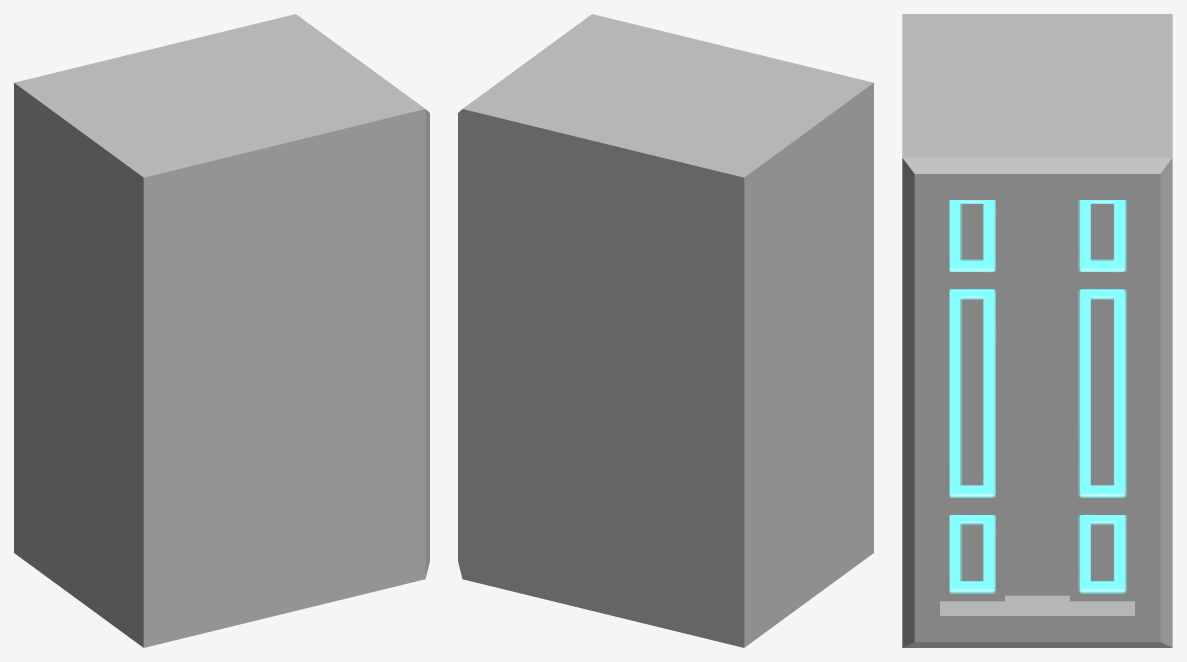
The model's file is switchBase - Textures.gltf.
3 views of the same model, side by side, from view 1: azimuth 30°, elevation 25°; view 2: azimuth 150°, elevation 25°; view 3: azimuth 270°, elevation 25° (orthographic). The views are drawn at different scales.
Parts seen in each view (by area): view 1: Cube; view 2: Cube; view 3: Cube.
Boxes of the visible parts, x1=… form: Cube: x1=14, y1=14, x2=429, y2=647; Cube: x1=458, y1=14, x2=873, y2=647; Cube: x1=902, y1=14, x2=1172, y2=647.
Size of the model in its own units: 2.6 by 4 by 2.
